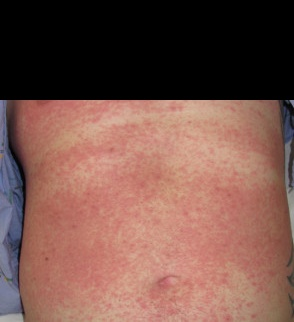SJS-TEN: (4, 98, 294, 322)
